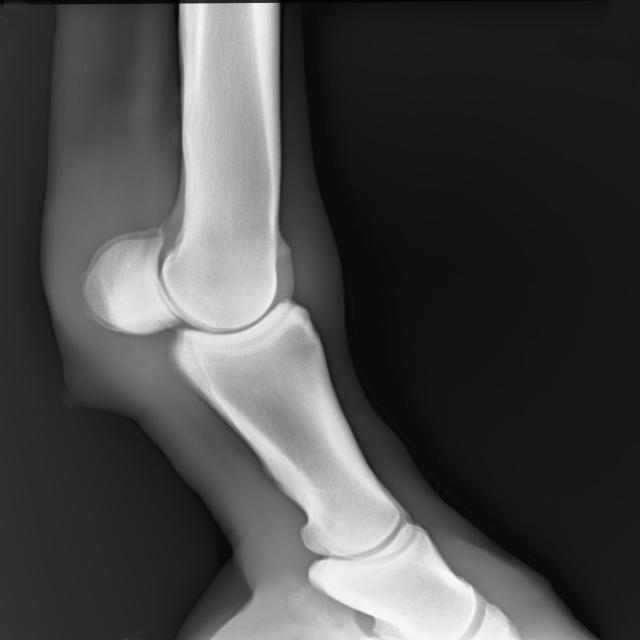joint-ht8A: (73, 181, 385, 437)
